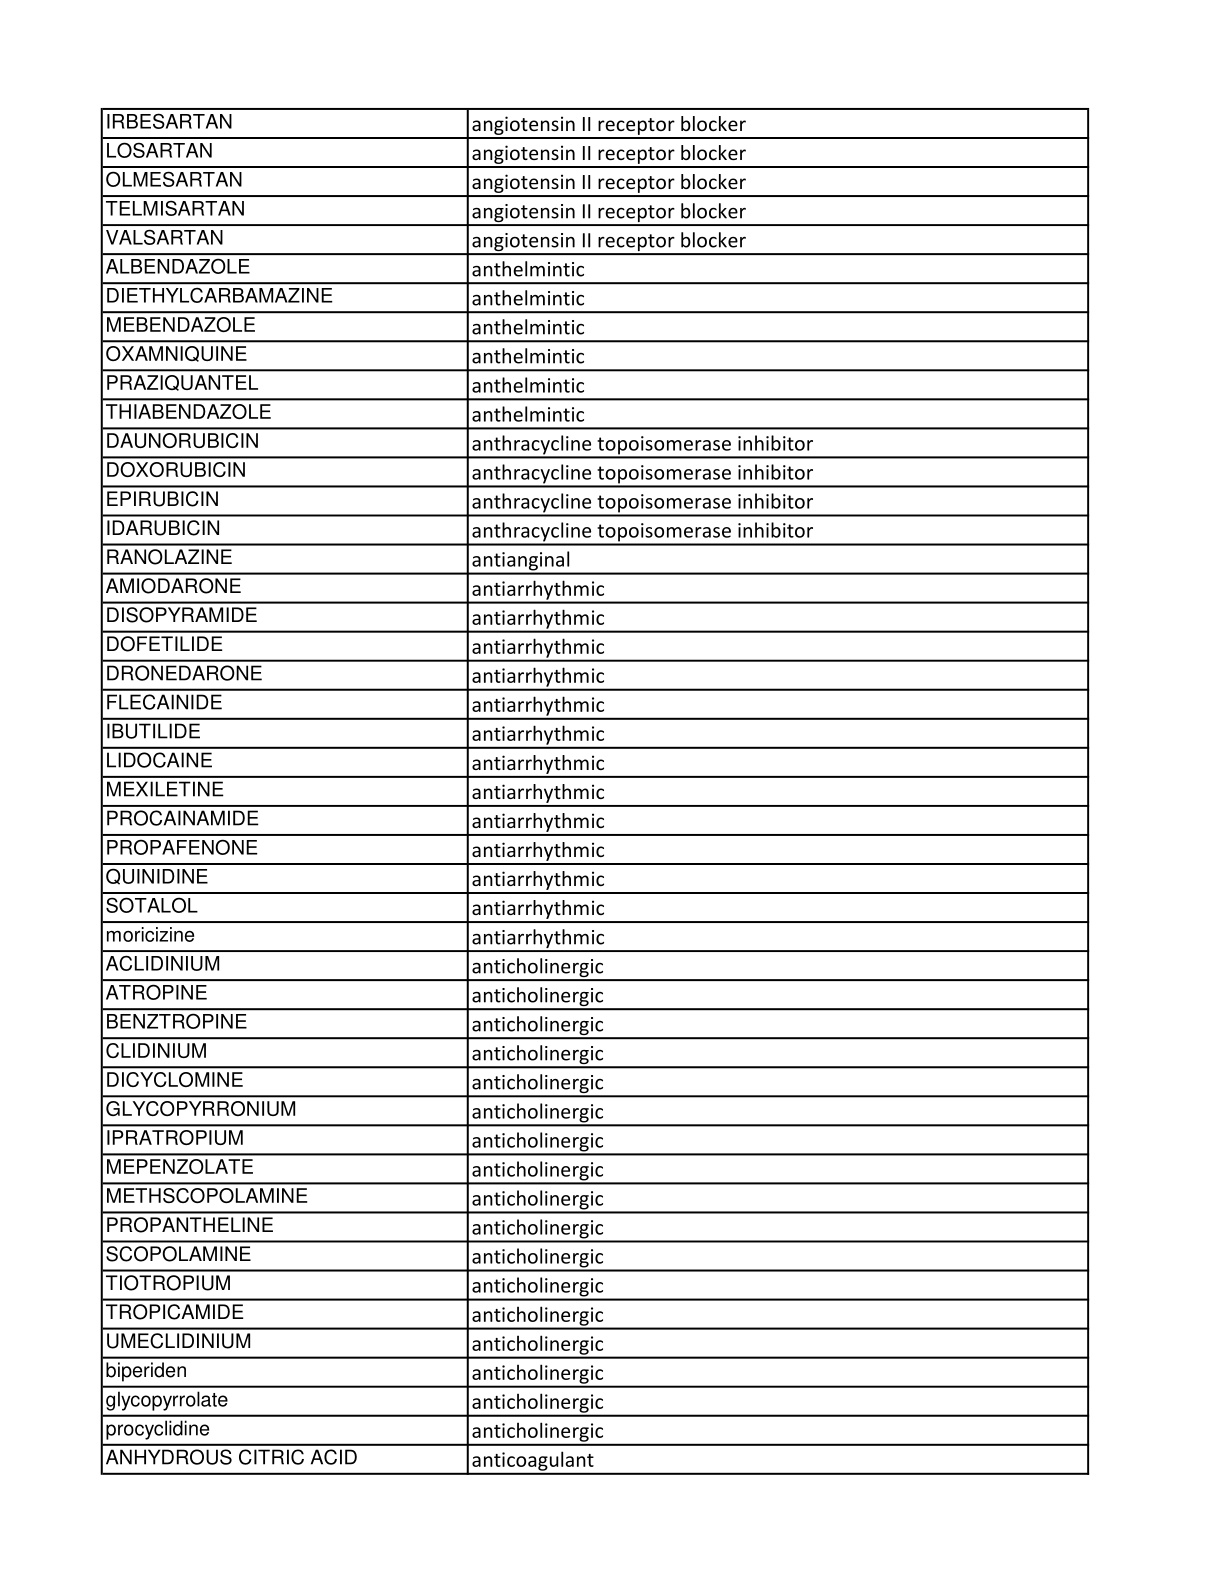full_lined: (100, 107, 1092, 1476)
